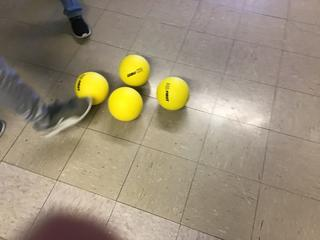power_cell: (72, 70, 111, 108), (107, 86, 145, 123), (155, 75, 192, 111), (119, 52, 152, 88)
